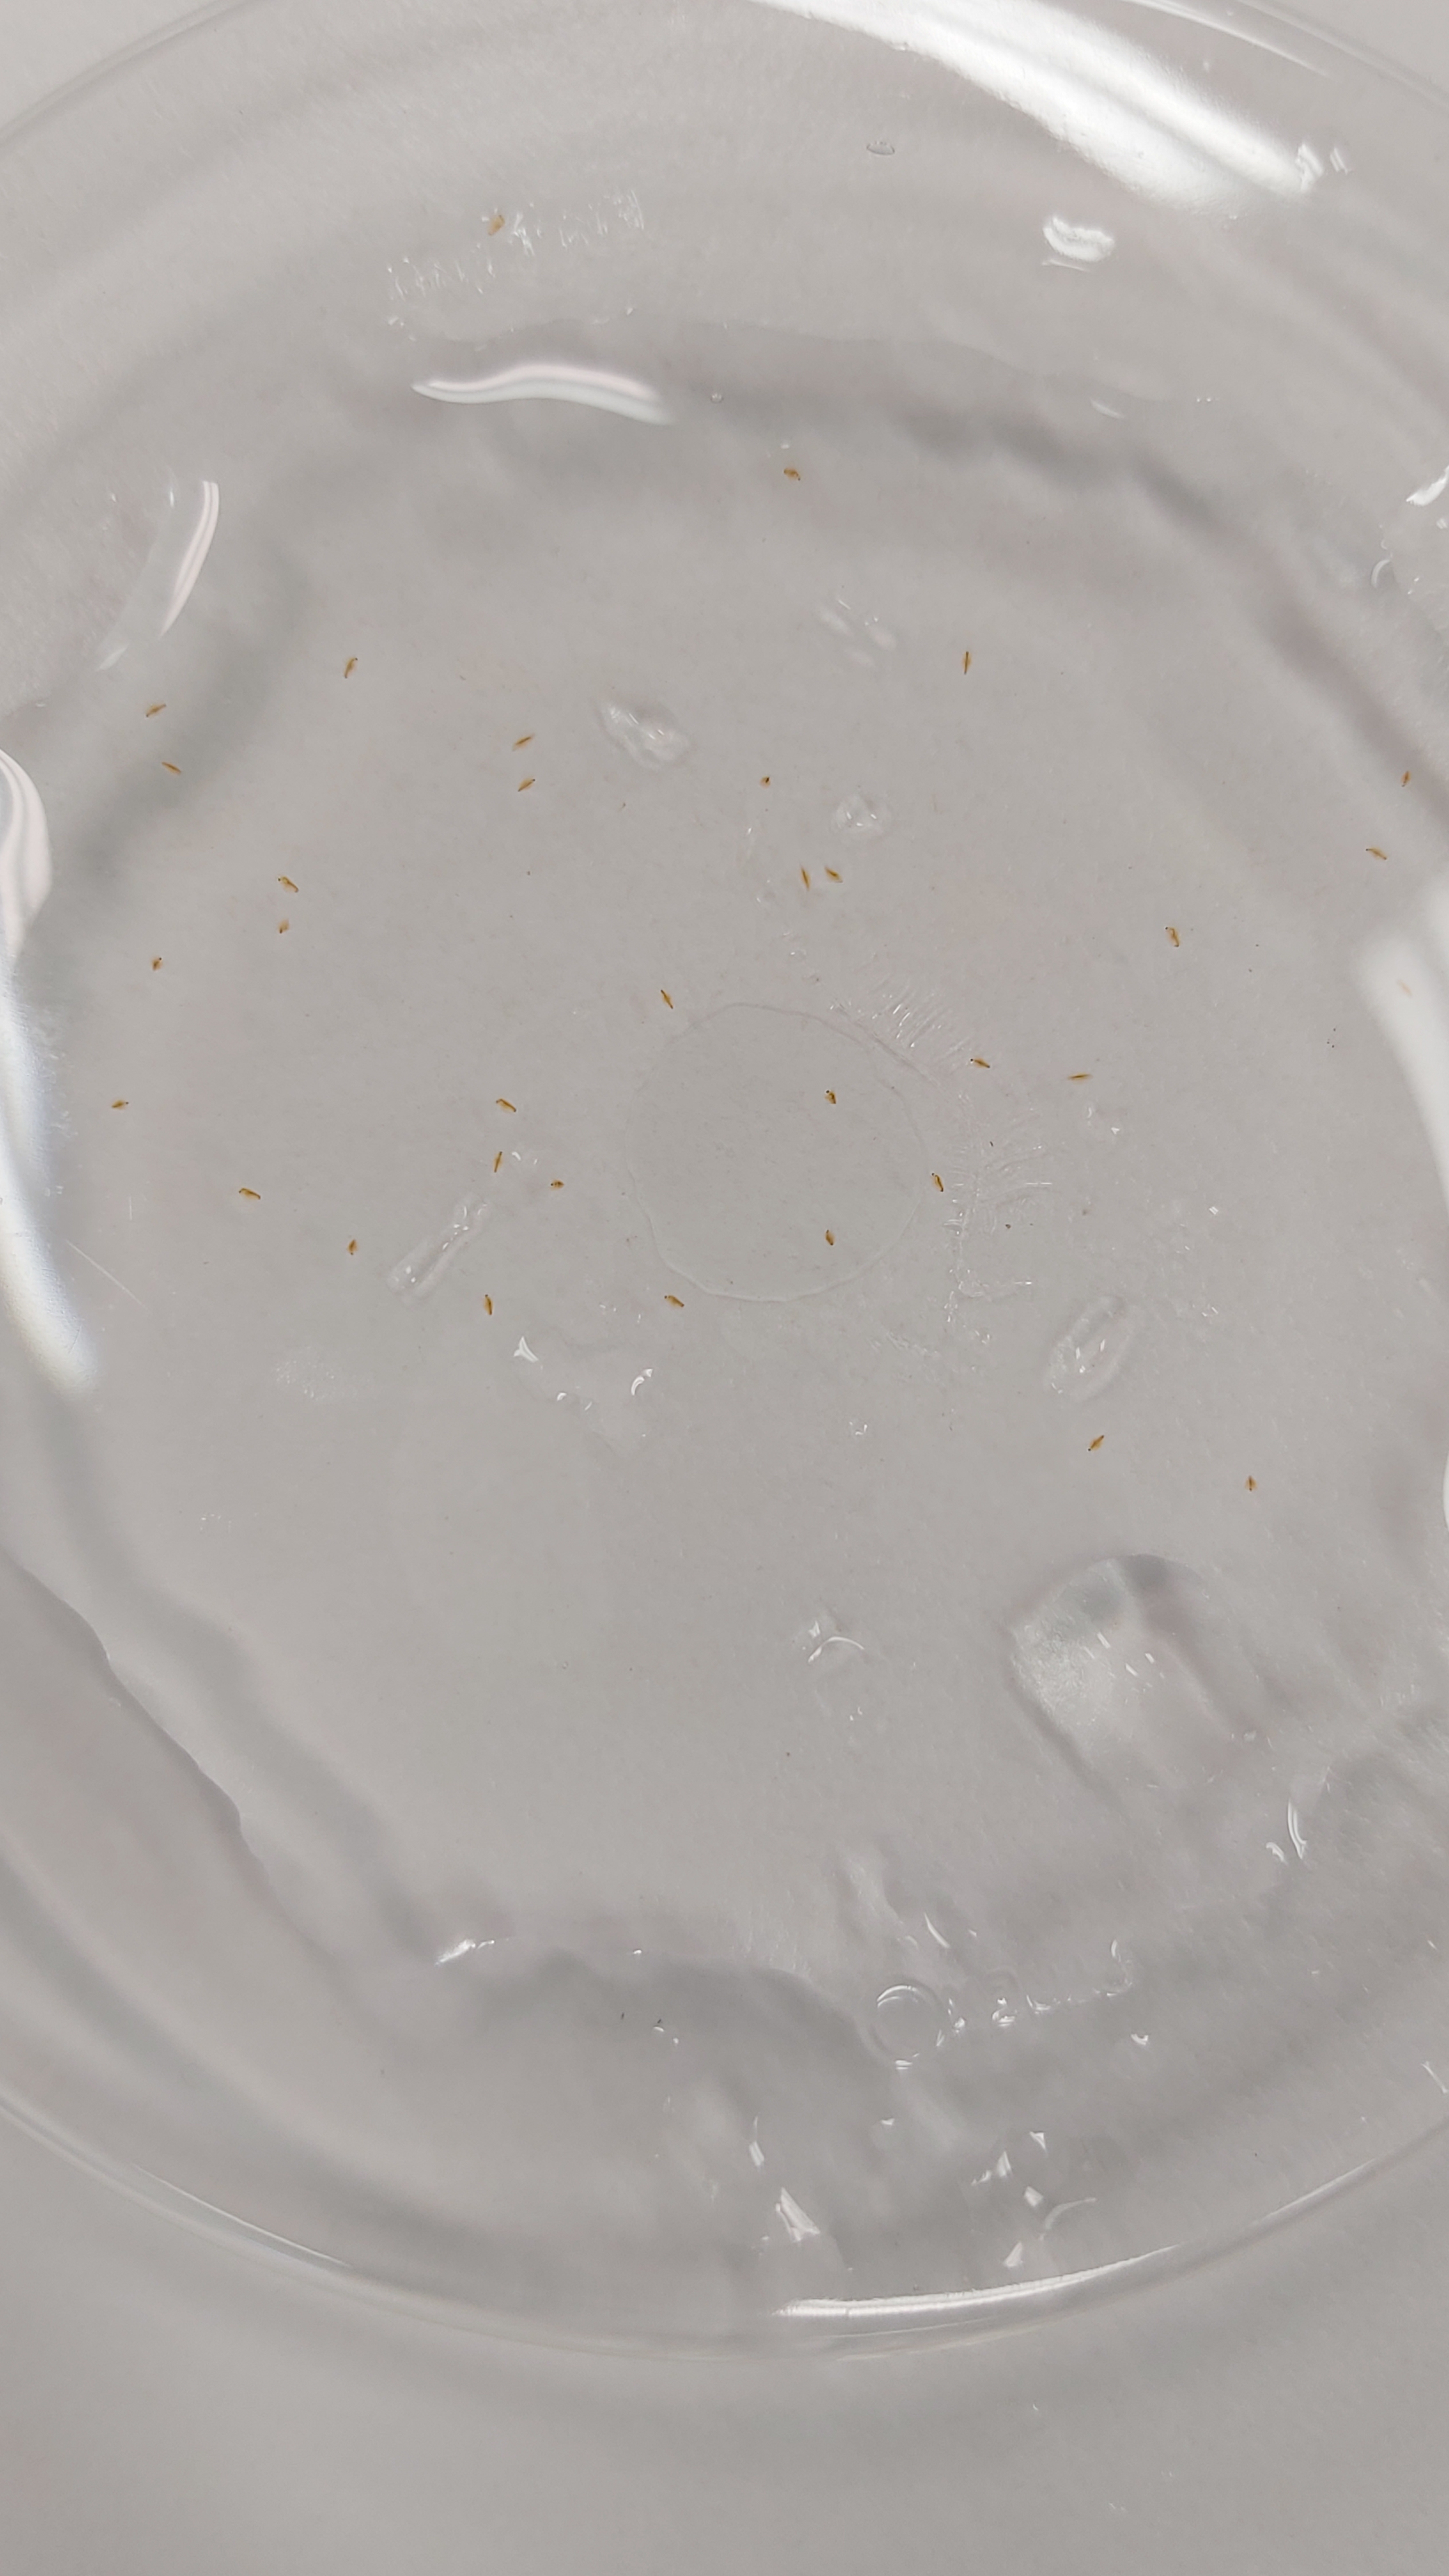D.magna: (1359, 844, 1391, 865), (143, 697, 168, 724), (655, 987, 679, 1014), (276, 872, 301, 895), (485, 212, 506, 239), (156, 757, 184, 777), (798, 865, 816, 893), (237, 1185, 264, 1203), (511, 731, 533, 752), (662, 1292, 685, 1311), (823, 865, 846, 885), (1164, 924, 1182, 948), (343, 655, 359, 681), (1086, 1433, 1106, 1454), (782, 462, 803, 481), (494, 1095, 517, 1113), (931, 1171, 948, 1194), (968, 1056, 993, 1072), (492, 1148, 506, 1173), (481, 1292, 495, 1316), (961, 649, 975, 674), (515, 777, 536, 793), (821, 1088, 839, 1106), (278, 916, 294, 936), (1065, 1070, 1093, 1081), (345, 1237, 361, 1254), (1244, 1472, 1258, 1491), (548, 1177, 566, 1191), (150, 955, 165, 973), (110, 1099, 133, 1109), (824, 1228, 837, 1244), (1399, 771, 1412, 787)
